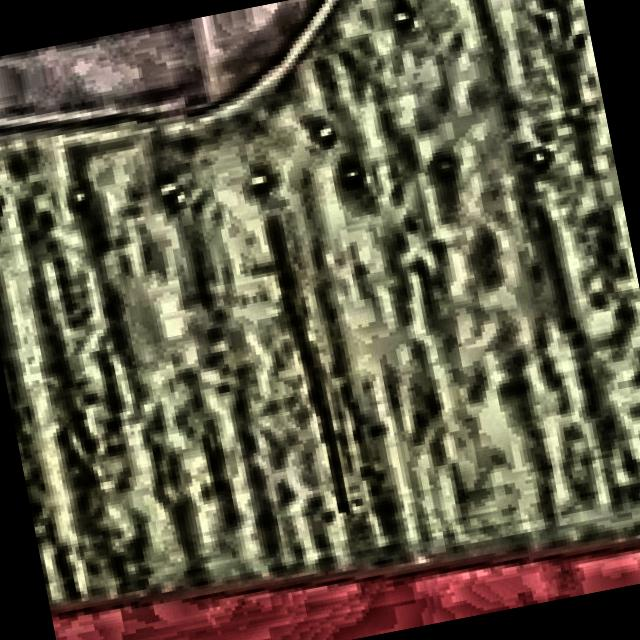crack: (258, 265, 420, 585)
